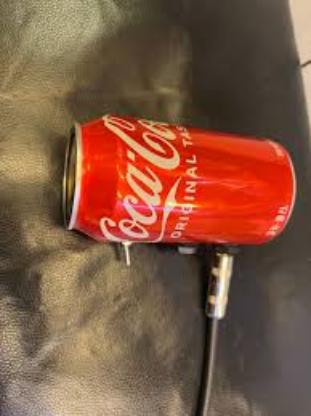Can: (60, 112, 298, 252)
